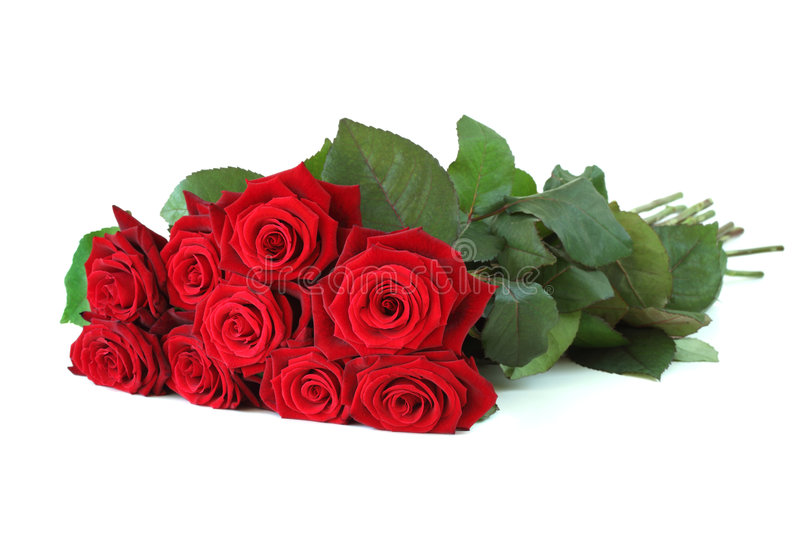RedRose: (309, 223, 500, 360), (351, 341, 495, 442), (233, 171, 356, 287), (191, 266, 309, 377), (262, 331, 360, 435), (160, 191, 234, 319), (160, 317, 253, 415), (61, 315, 164, 401), (78, 213, 163, 315)
